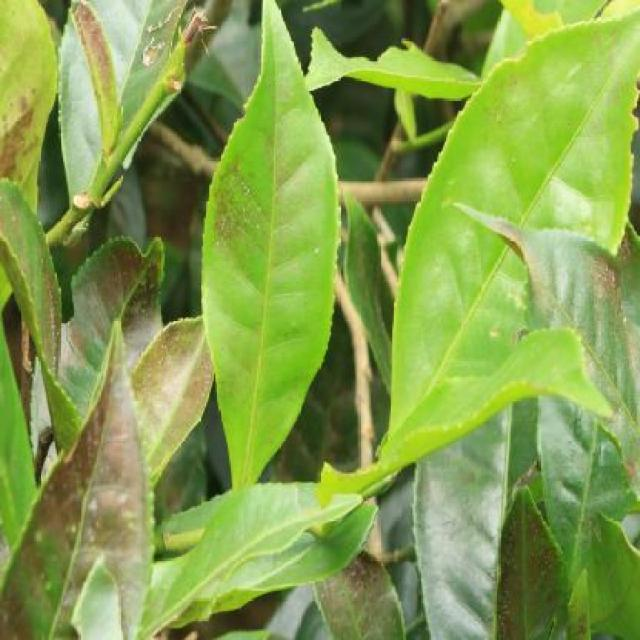Red Spider infested tea leaf: (2, 218, 206, 640), (203, 23, 331, 445), (480, 211, 640, 491)
